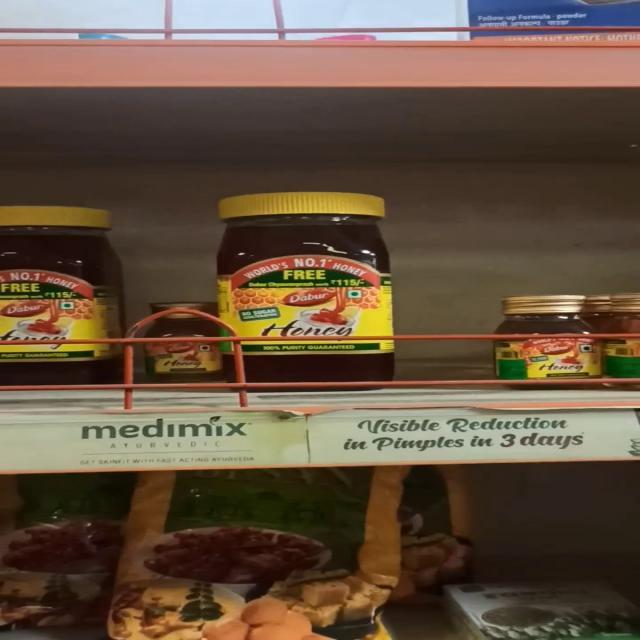Dabur Honey: (213, 187, 412, 390), (501, 293, 614, 385)
